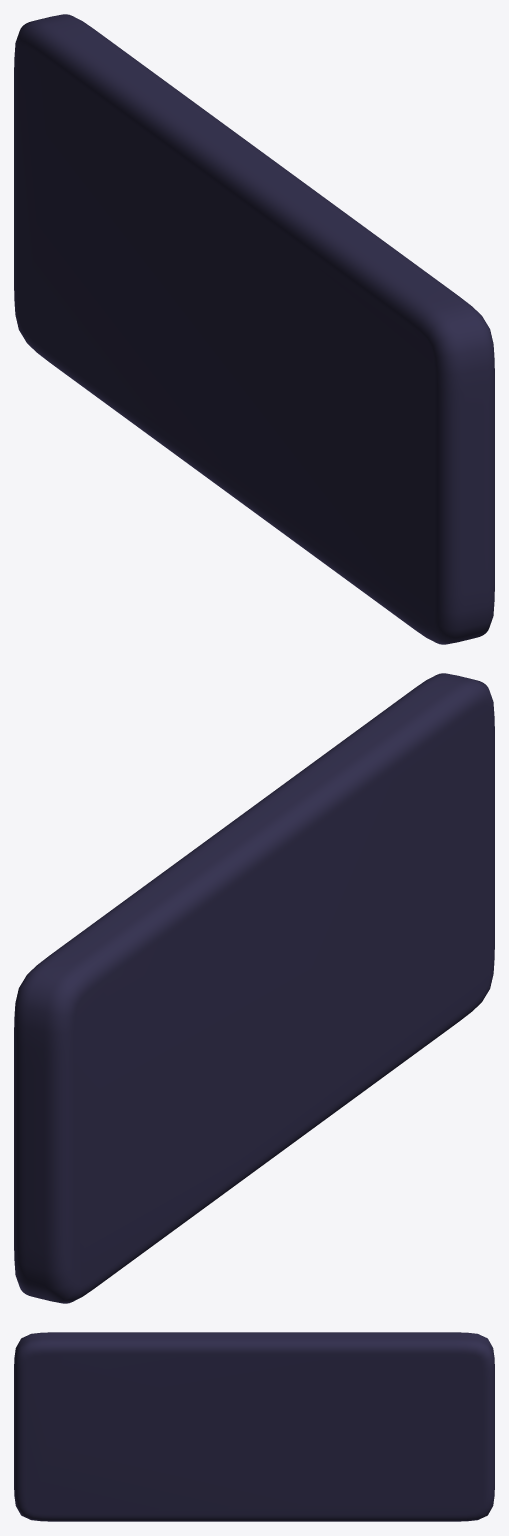
File: timer-bar.glb
The picture shows the model from 3 angles, top to bottom: view 1: azimuth 30°, elevation 25°; view 2: azimuth 150°, elevation 25°; view 3: azimuth 270°, elevation 25°; orthographic projection. The views are drawn at different scales.
Visible parts, largest first — view 1: Timer.001; view 2: Timer.001; view 3: Timer.001.
Part boxes in pixels (x1,y1,x2,y2): Timer.001: (14, 14, 494, 644); Timer.001: (14, 673, 494, 1303); Timer.001: (14, 1332, 494, 1521).
Bounding box in the file's own units: 0.0165 × 0.0927 × 0.2229.
